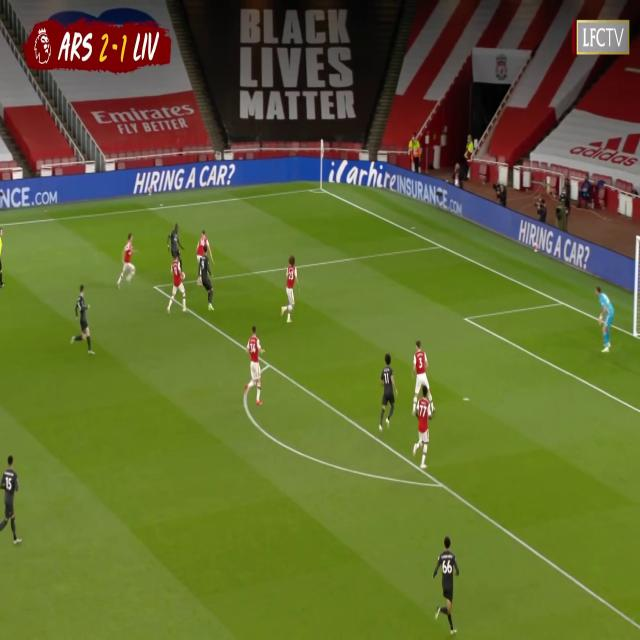Ball: (180, 269, 186, 279)
GoalKeeper: (596, 286, 618, 354)
TEAM 1: (431, 537, 460, 635), (2, 458, 23, 548), (74, 285, 95, 354), (195, 245, 216, 310), (168, 222, 183, 261)
TEAM 2: (411, 387, 433, 471), (413, 341, 434, 418), (379, 357, 397, 432), (168, 250, 188, 316), (118, 232, 138, 290), (247, 328, 262, 403), (283, 253, 299, 323), (196, 222, 214, 262)
